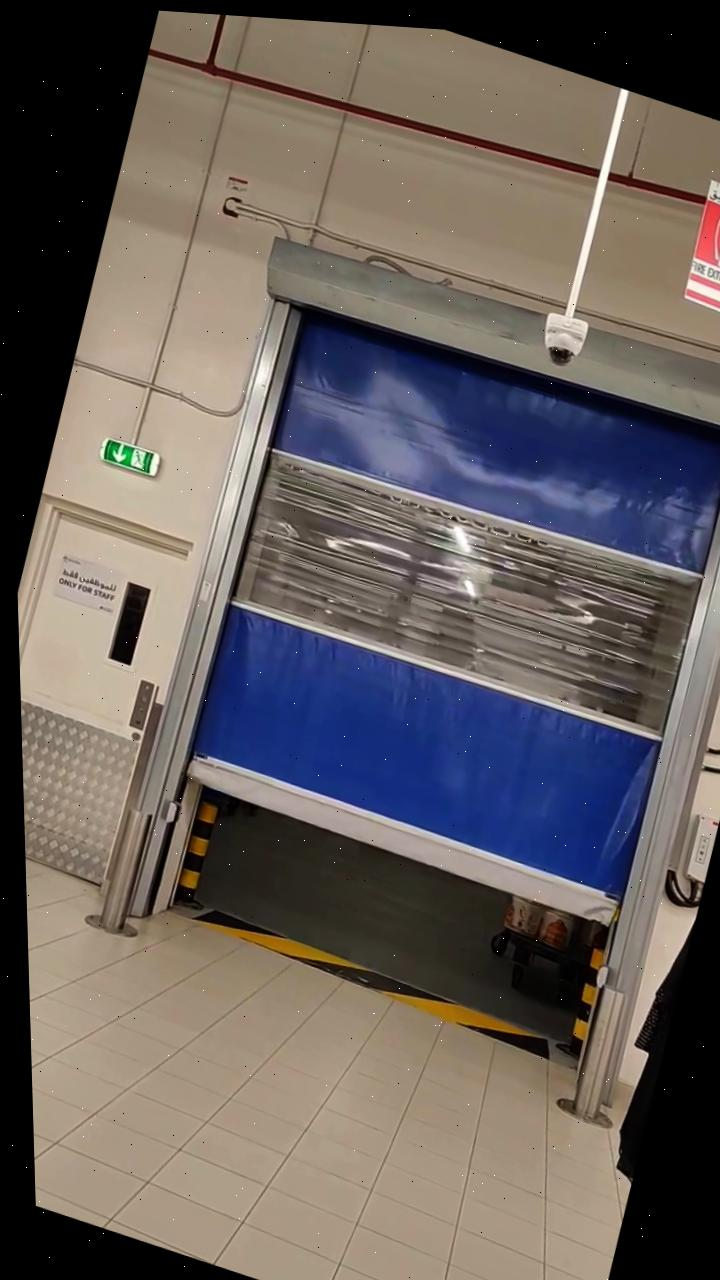Strip: (172, 886, 558, 1063)
